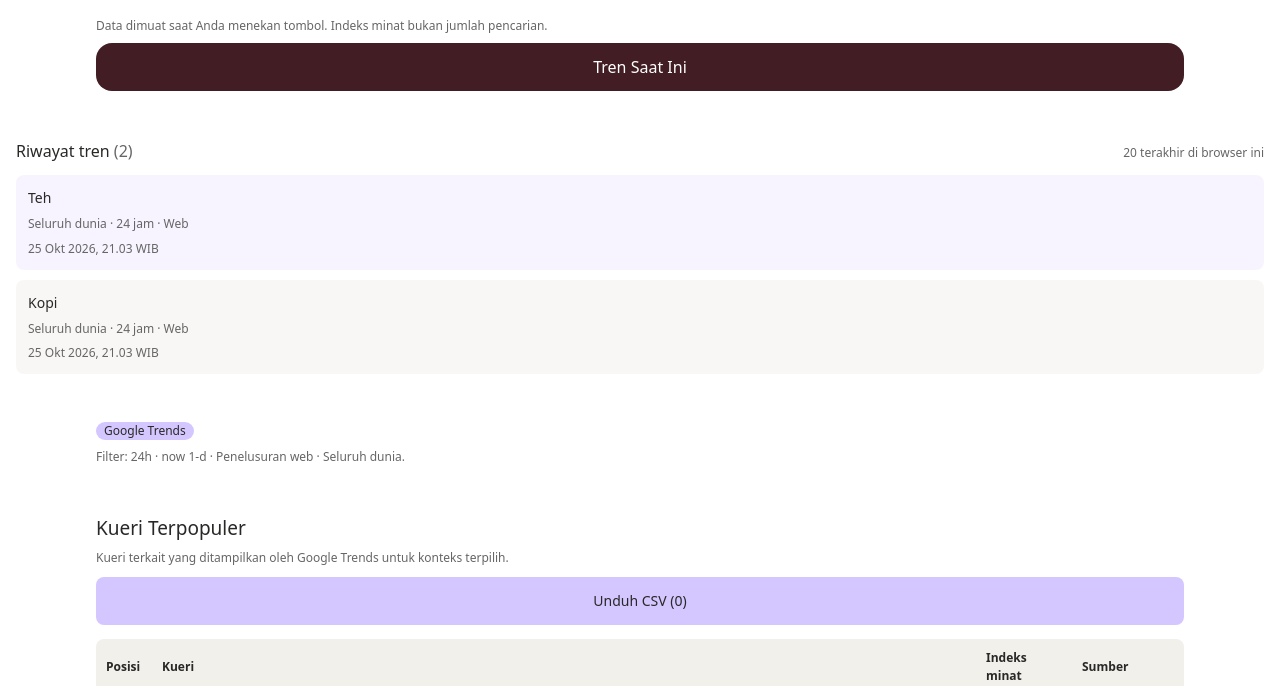
Test: TrendRadarPanel › opens earlier products from history without a new provider request
(page scrolled)
Click the button "Kopi Seluruh dunia · 24 jam · Web 25 Okt 2026, 21.03 WIB".
click(108, 328)  # box [16, 280, 1264, 374]
(page scrolled)
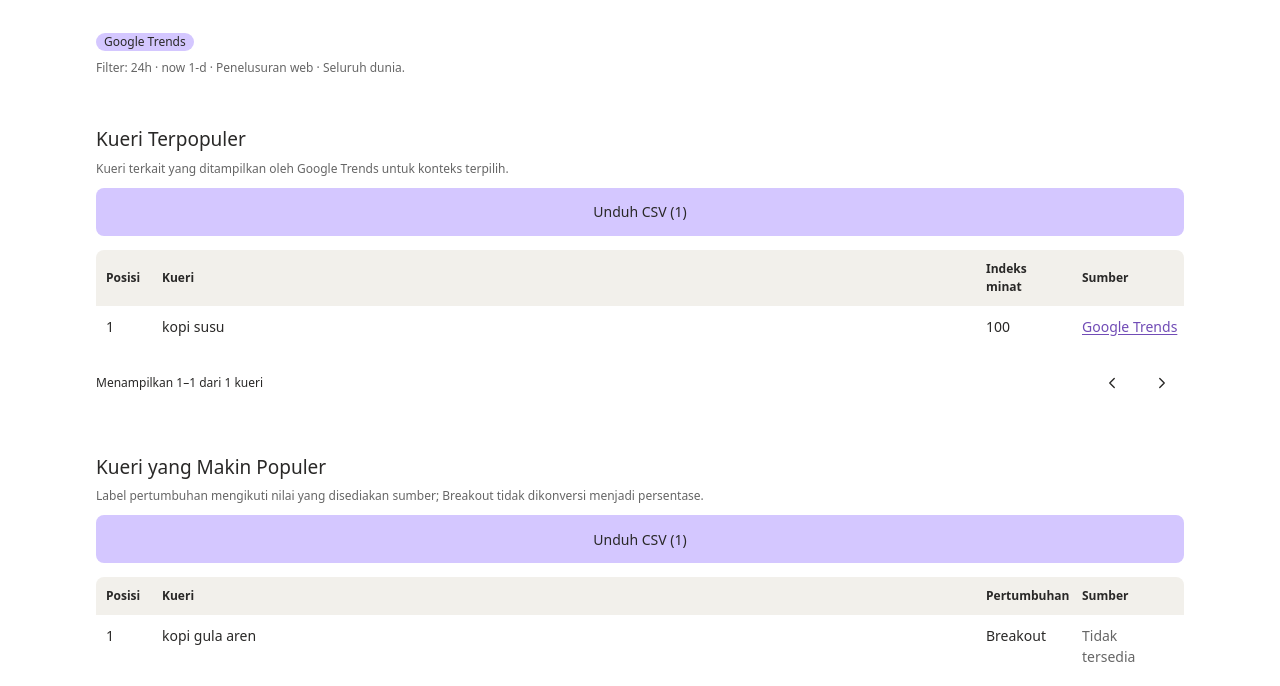
Now the text "kopi susu" is shown, box [152, 306, 976, 346]
